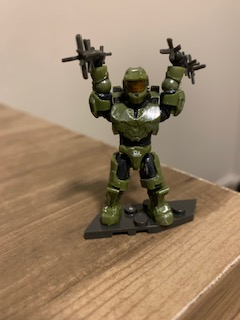chief: (84, 52, 187, 226)
spartan: (82, 50, 185, 224)
up: (86, 54, 189, 144)
